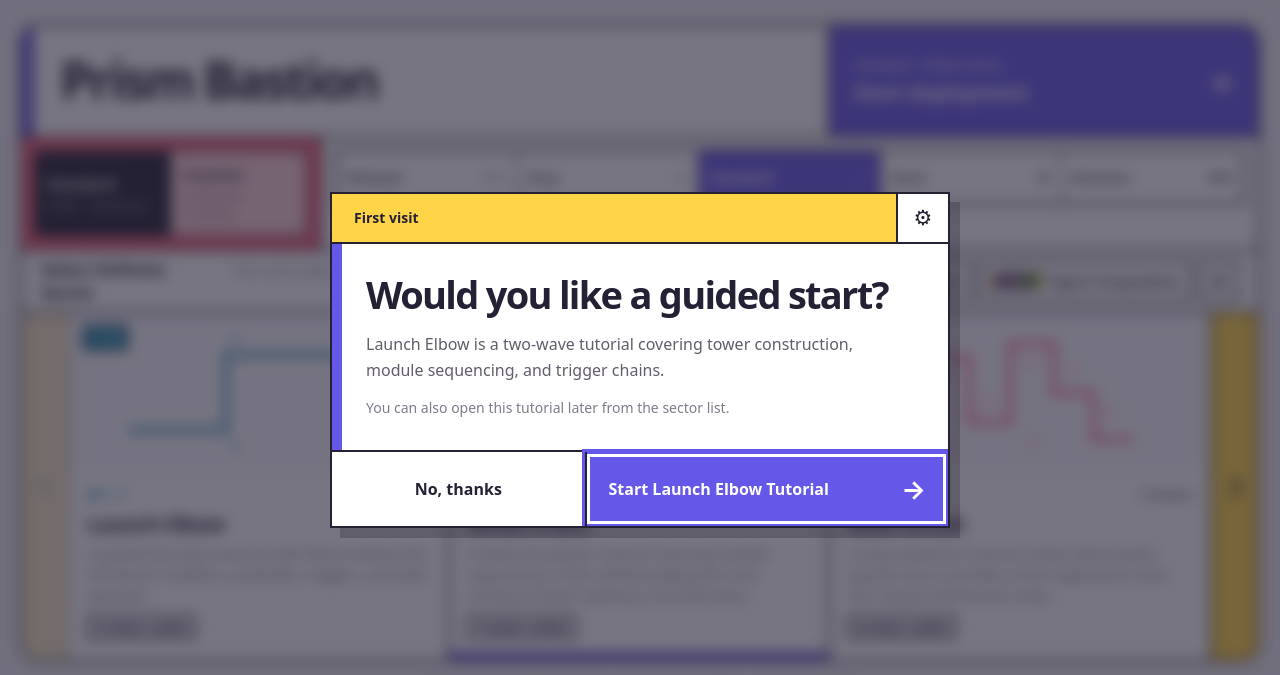
Test: level selection accessibility › exposes mode state and supports arrow-key radio selection
The width and height of the screenshot is (1280, 675).
Step 1. Click the button "No, thanks" → coordinates (458, 489), box [332,452,584,526]
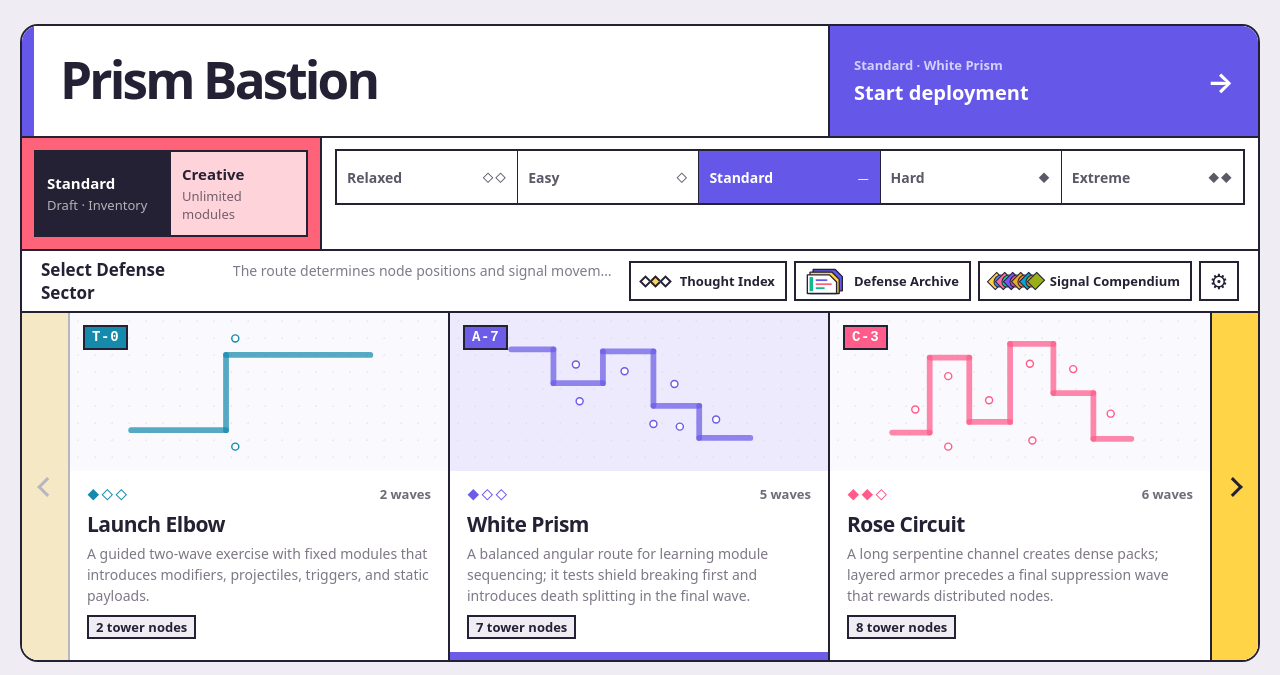
Step 2. Click the button "Creative Unlimited modules" → coordinates (240, 194), box [171,150,308,237]
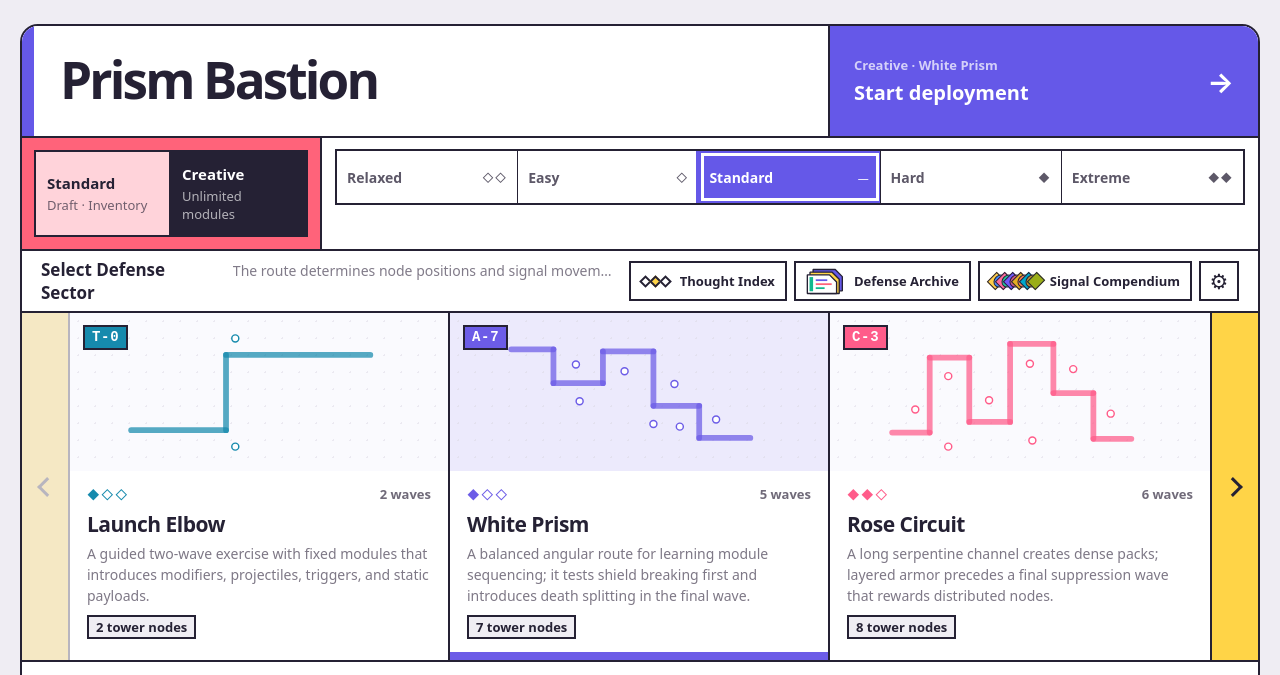
Expected: the radio button labelled "— Standard" is shown, [699,151,881,203]
Now the button "Creative Unlimited modules" is pressed, box [171,150,308,237]
Step 3. Press Arrowright
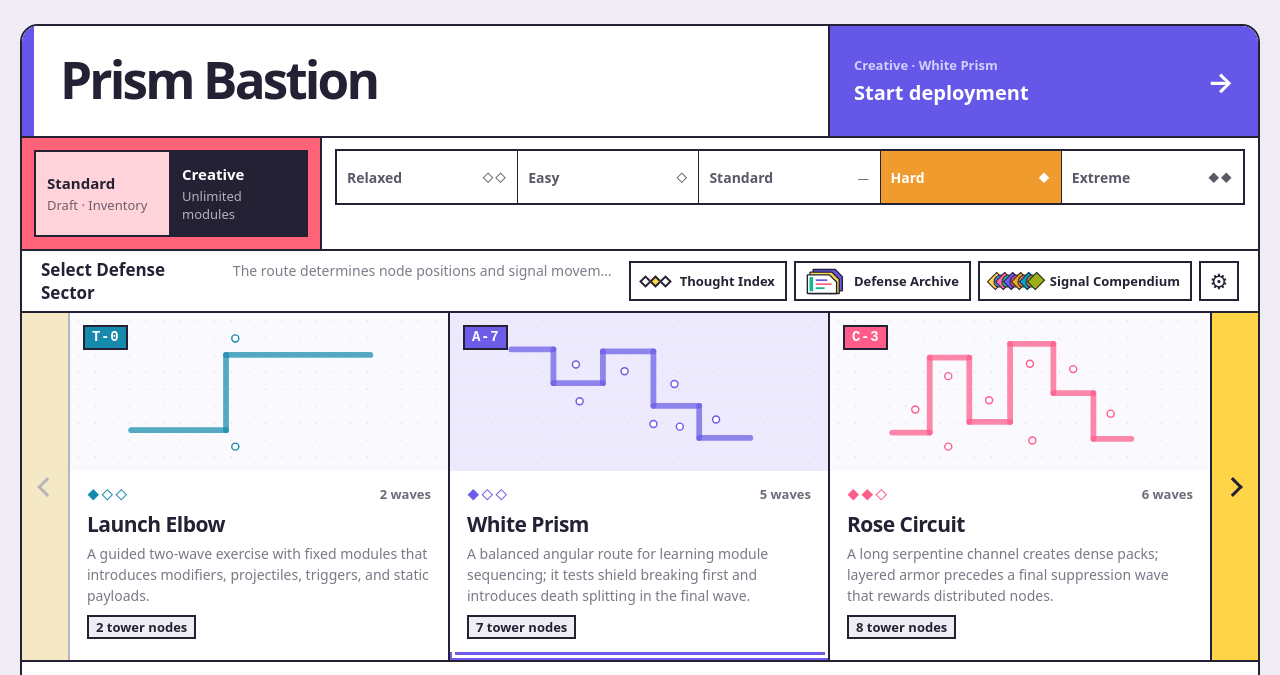
Expected: the radio button labelled "◆ Hard" is shown, [881,151,1062,203]
Expected: the radio button that starts with "A-7" shows "White Prism", [450,313,830,660]
Step 4. Press Arrowright
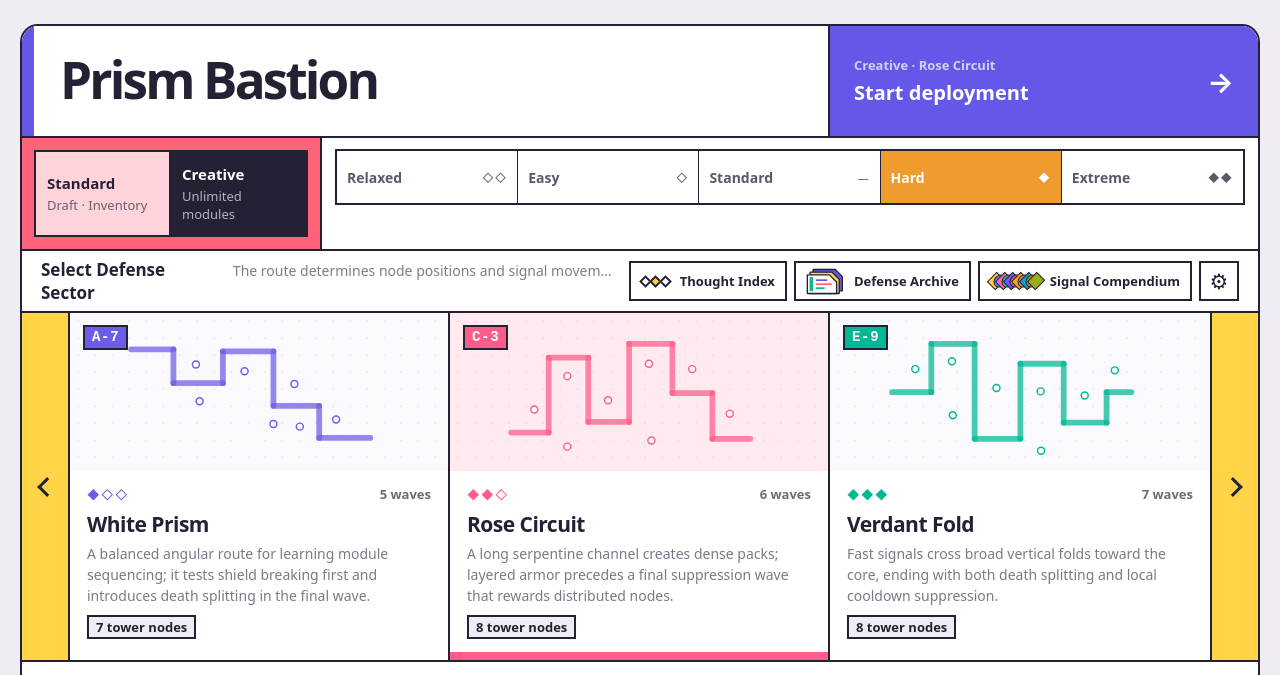
Now the radio button that starts with "C-3" shows "Rose Circuit", box [450,313,830,660]
